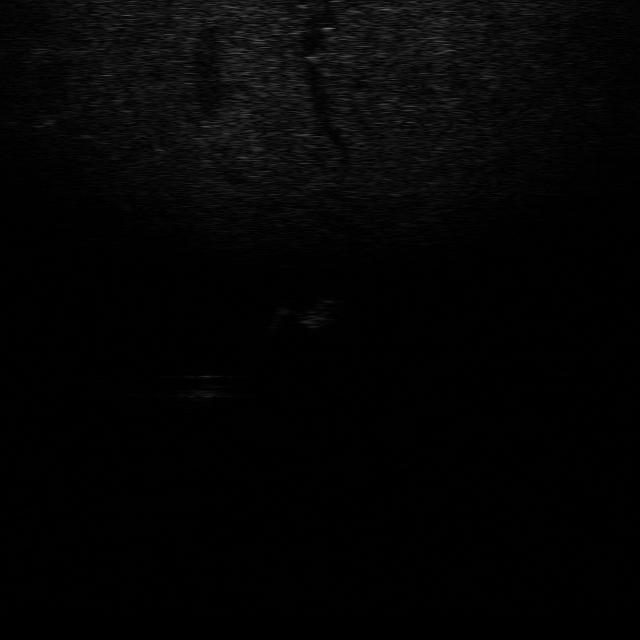ball: (178, 369, 234, 402)
human body: (262, 299, 342, 337)
